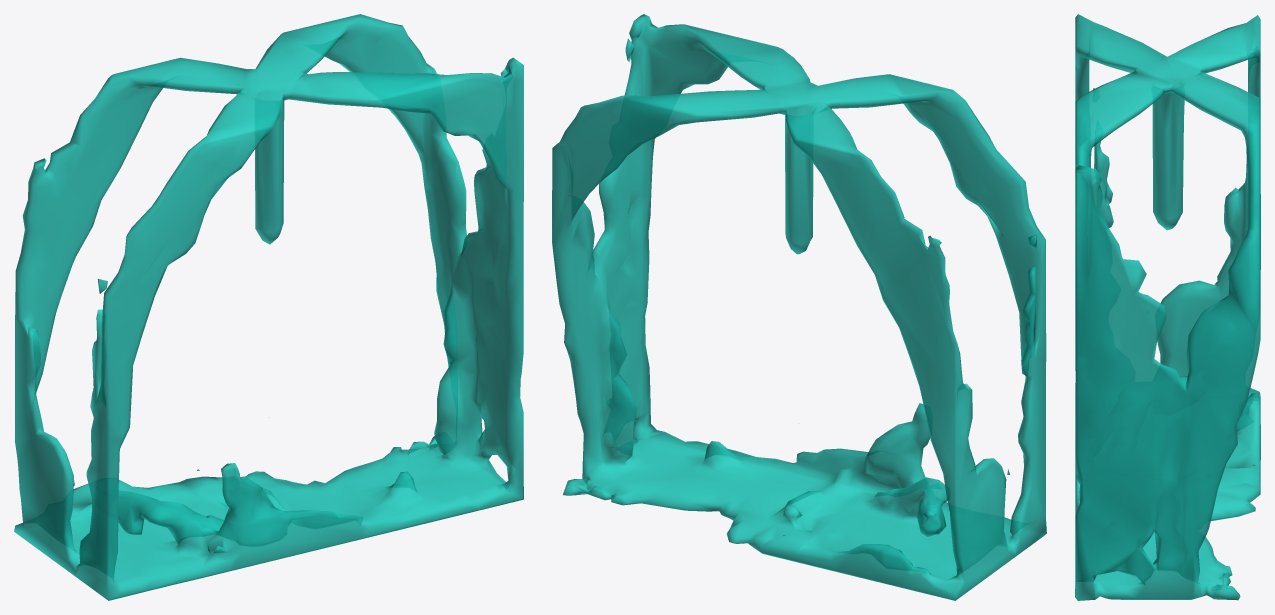
3 renders of one model, left to right at view 1: azimuth 30°, elevation 25°; view 2: azimuth 150°, elevation 25°; view 3: azimuth 270°, elevation 25°, orthographic. The views are drawn at different scales.
Parts seen in each view (by area): view 1: Liquid_Domain; view 2: Liquid_Domain; view 3: Liquid_Domain.
Part boxes in pixels (<box>): Liquid_Domain: <box>14,14,523,600</box>; Liquid_Domain: <box>552,14,1046,600</box>; Liquid_Domain: <box>1075,14,1260,600</box>.
Bounding box in the file's own units: 884 × 884 × 345.
